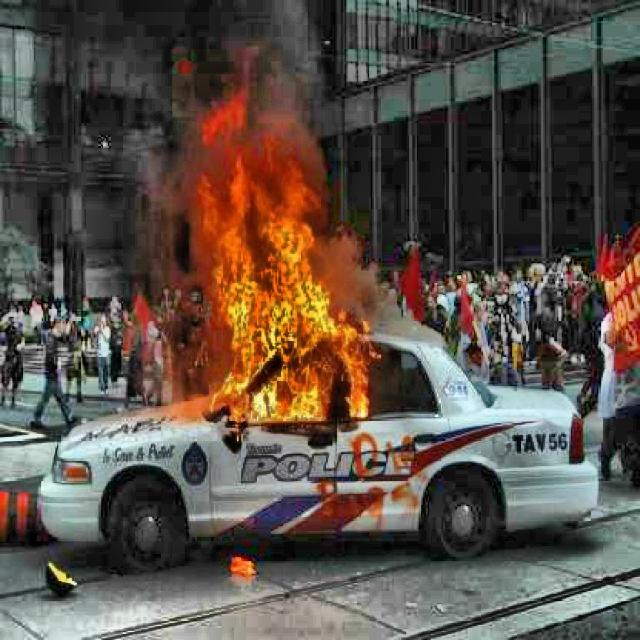Fire: (198, 143, 368, 419)
